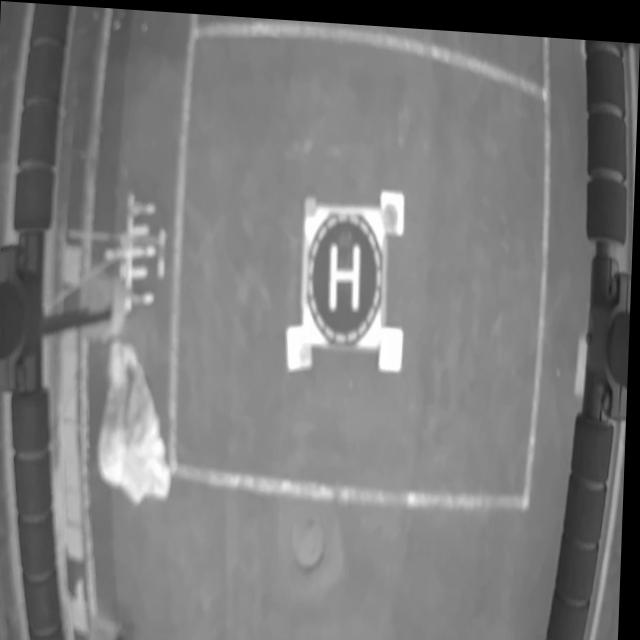Helipad: (331, 236, 362, 308)
